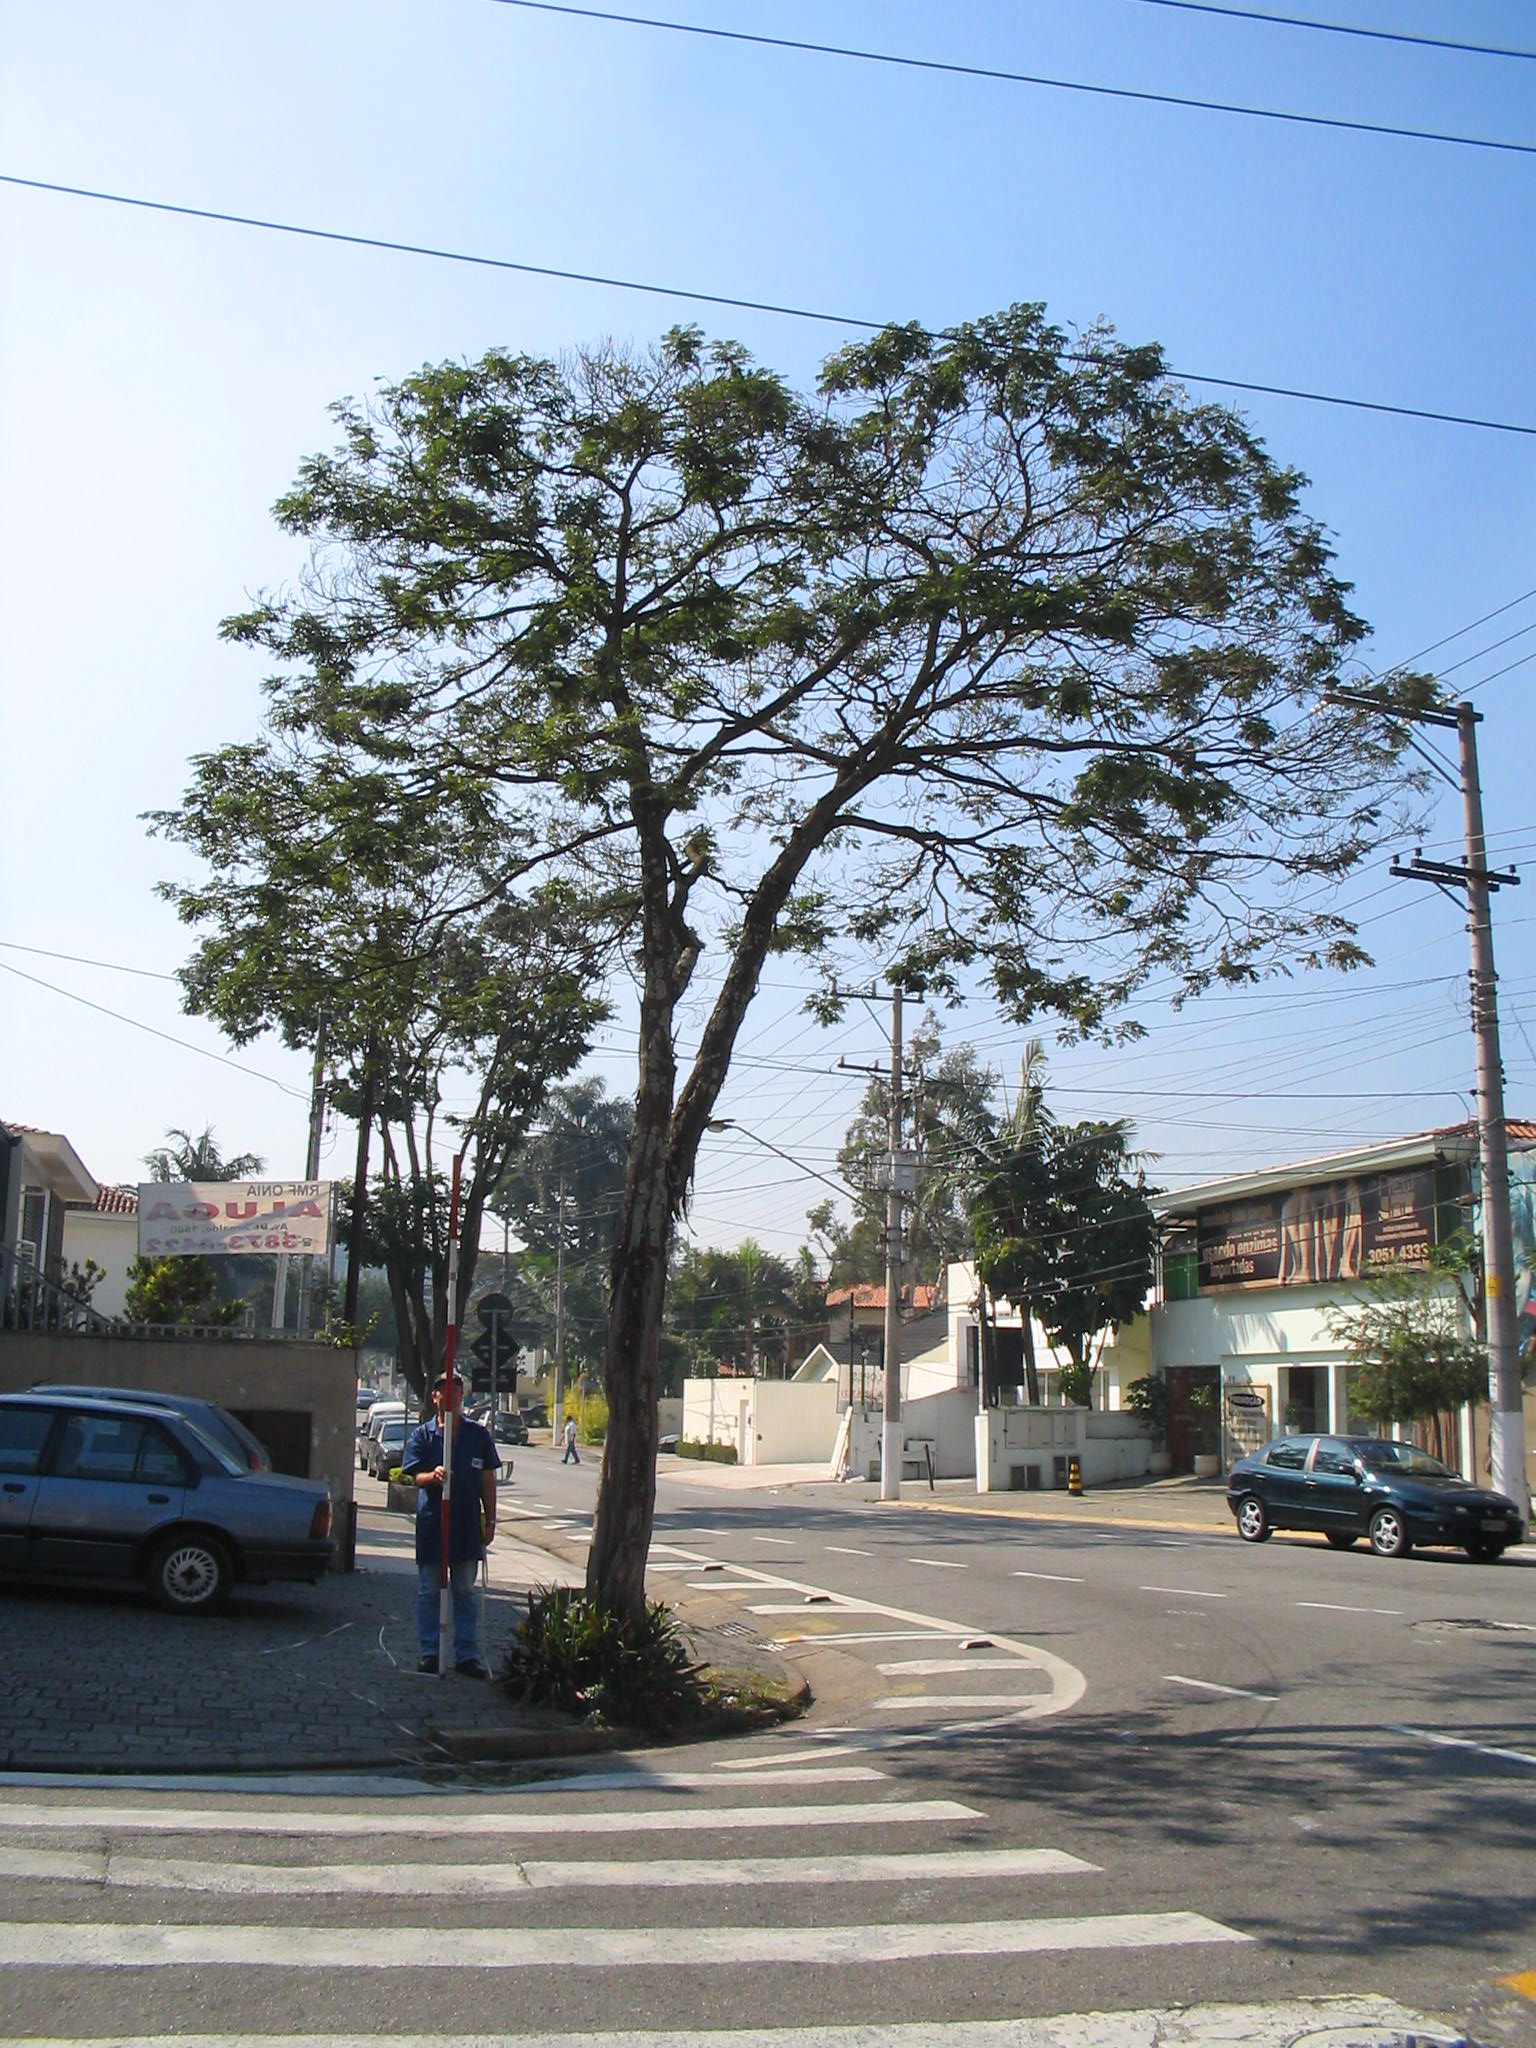crown: (140, 298, 1433, 1132)
stem: (557, 1182, 695, 1693)
stick: (416, 1148, 474, 1685)
tree: (132, 298, 1434, 1698)
